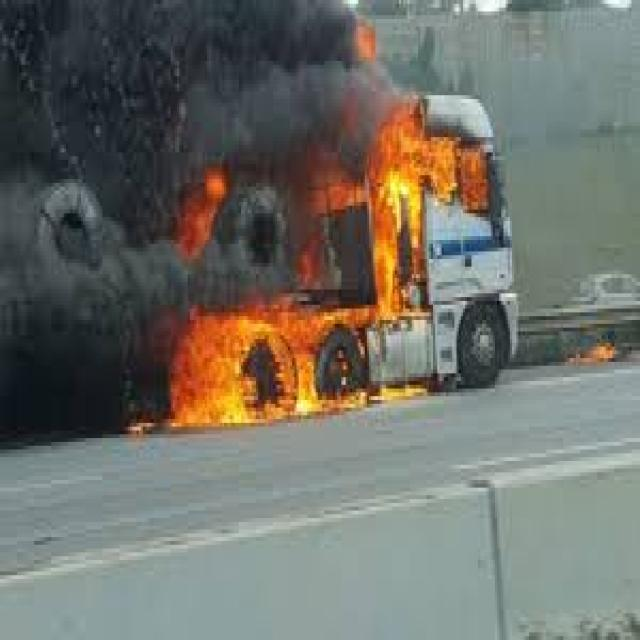Fire: (165, 99, 524, 405)
Smoke: (0, 0, 165, 412)
